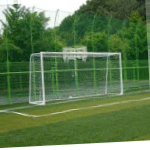goals: (27, 50, 127, 106)
